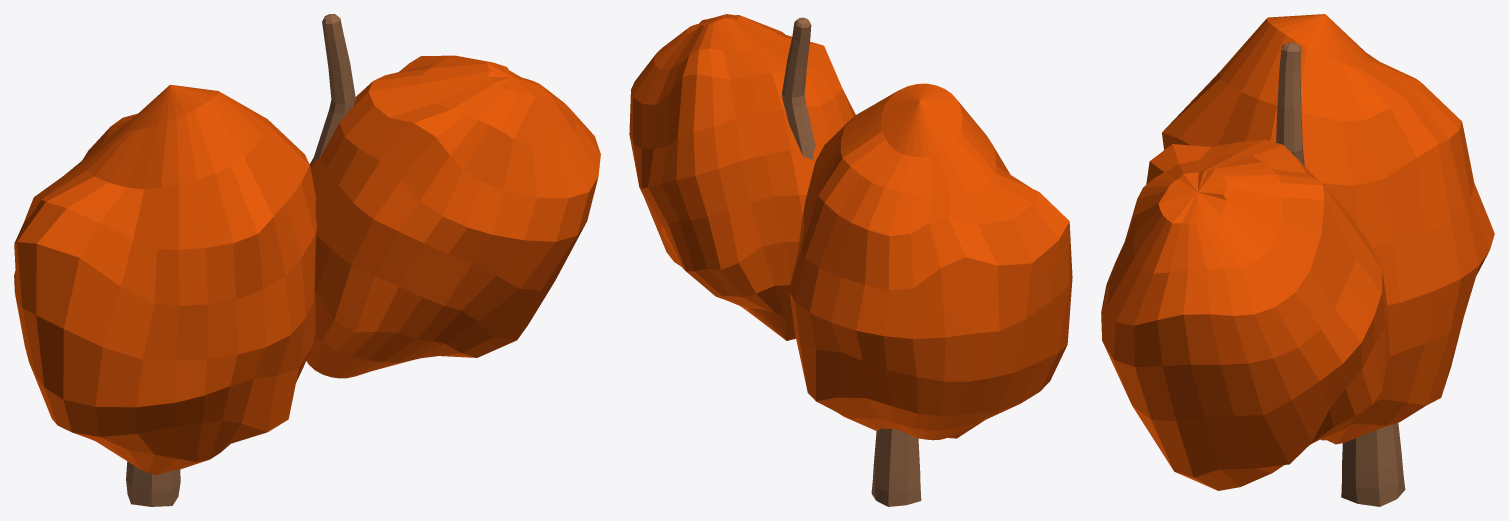
File: tree-autumn-complete-12-004.glb
3 renders of one model, left to right at view 1: azimuth 30°, elevation 25°; view 2: azimuth 150°, elevation 25°; view 3: azimuth 270°, elevation 25°, orthographic. The views are drawn at different scales.
Visible parts, largest first — view 1: TREE 12.003_386, TREE 12.002_387; view 2: TREE 12.003_386, TREE 12.002_387; view 3: TREE 12.003_386, TREE 12.002_387.
Part boxes in pixels (x1,y1,x2,y2): TREE 12.003_386: (14, 55, 600, 475); TREE 12.002_387: (126, 14, 355, 506); TREE 12.003_386: (629, 14, 1072, 440); TREE 12.002_387: (782, 17, 921, 506); TREE 12.003_386: (1101, 14, 1494, 490); TREE 12.002_387: (1276, 42, 1405, 506).
Size of the model in its own units: 1.4 by 1.23 by 0.828.
